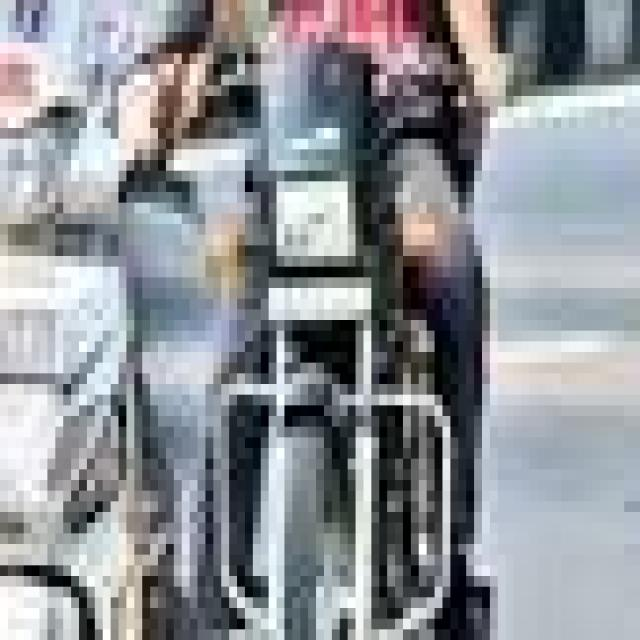bike: (213, 21, 482, 640), (0, 21, 174, 640)
